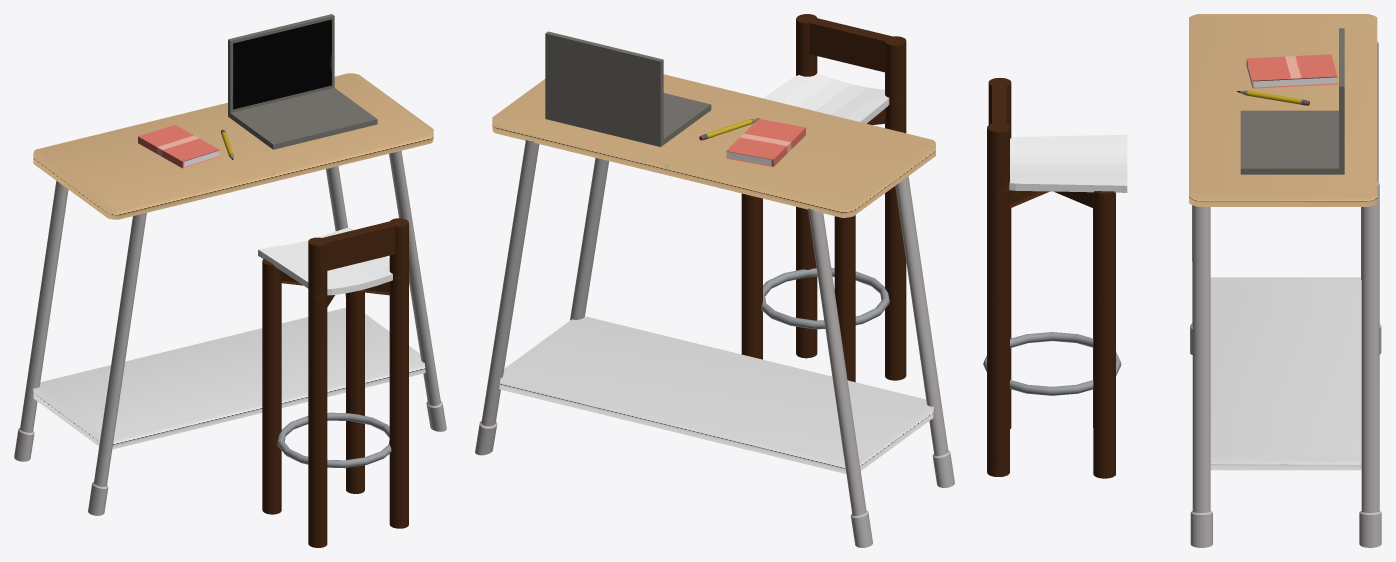
The model's file is Desk_Chair_DK.gltf.
The picture shows the model from 3 angles, left to right: view 1: azimuth 30°, elevation 25°; view 2: azimuth 150°, elevation 25°; view 3: azimuth 270°, elevation 25°; orthographic projection. The views are drawn at different scales.
Parts seen in each view (by area): view 1: Cube.001; view 2: Cube.001; view 3: Cube.001.
Part boxes in pixels (<box>): Cube.001: <box>14,14,446,547</box>; Cube.001: <box>475,14,954,547</box>; Cube.001: <box>983,14,1381,547</box>.
Size of the model in its own units: 2.77 by 2.82 by 2.35.
Materials: 6 (5 with a texture image).
